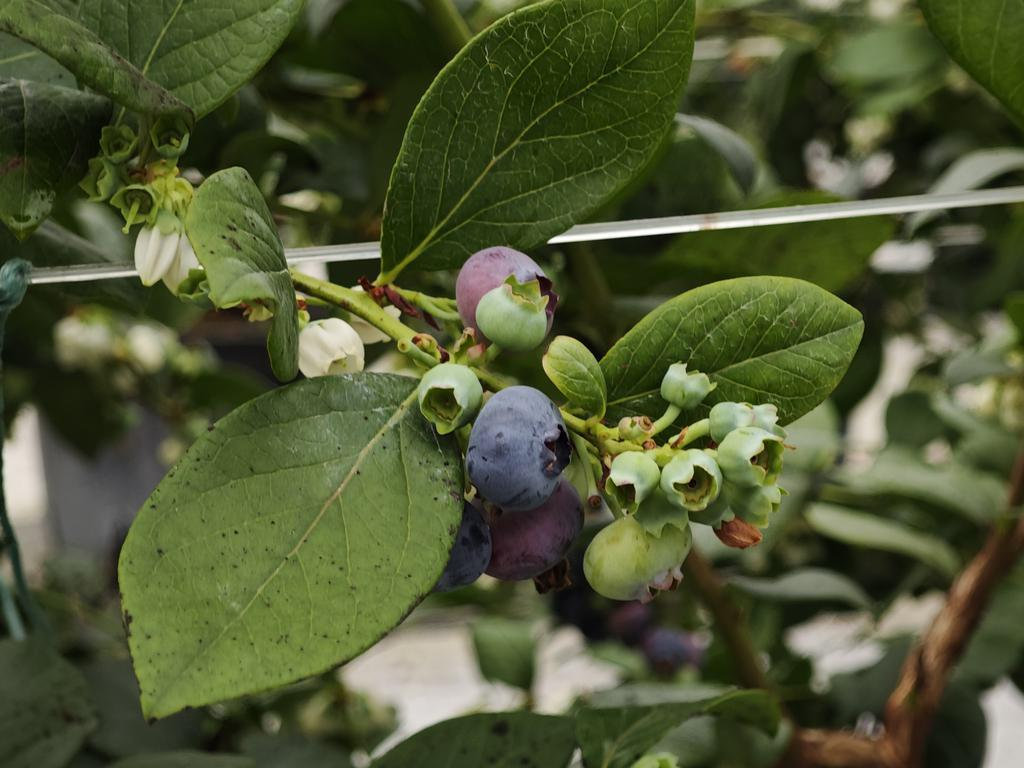RipeBlueBerry: (463, 381, 578, 511)
Semi-RipeBlueBerry: (492, 487, 585, 586)
UnripeBlueBerry: (584, 503, 696, 605)
